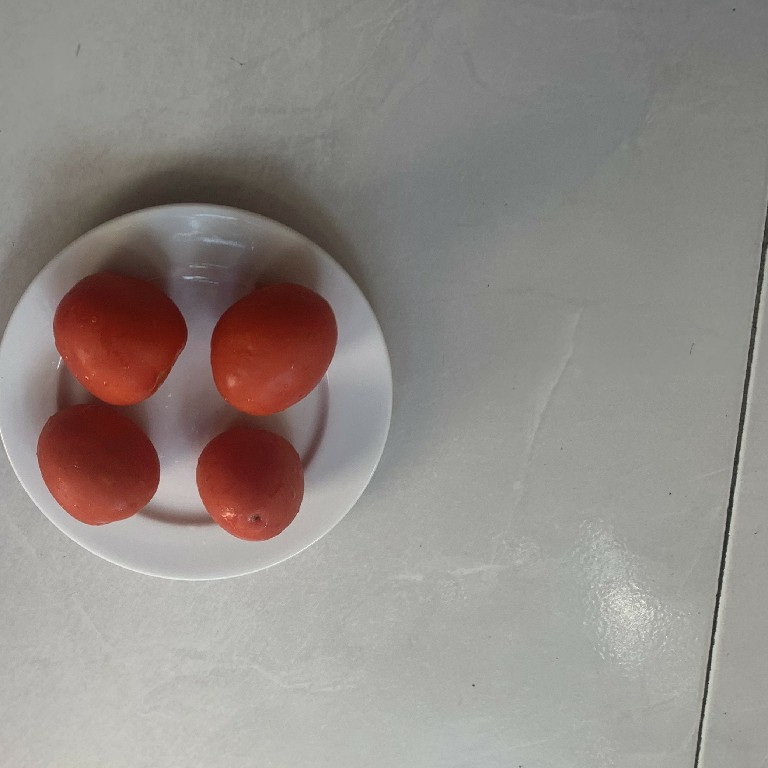OK: (52, 263, 185, 405), (211, 283, 334, 413), (37, 405, 162, 526), (194, 424, 308, 548)
